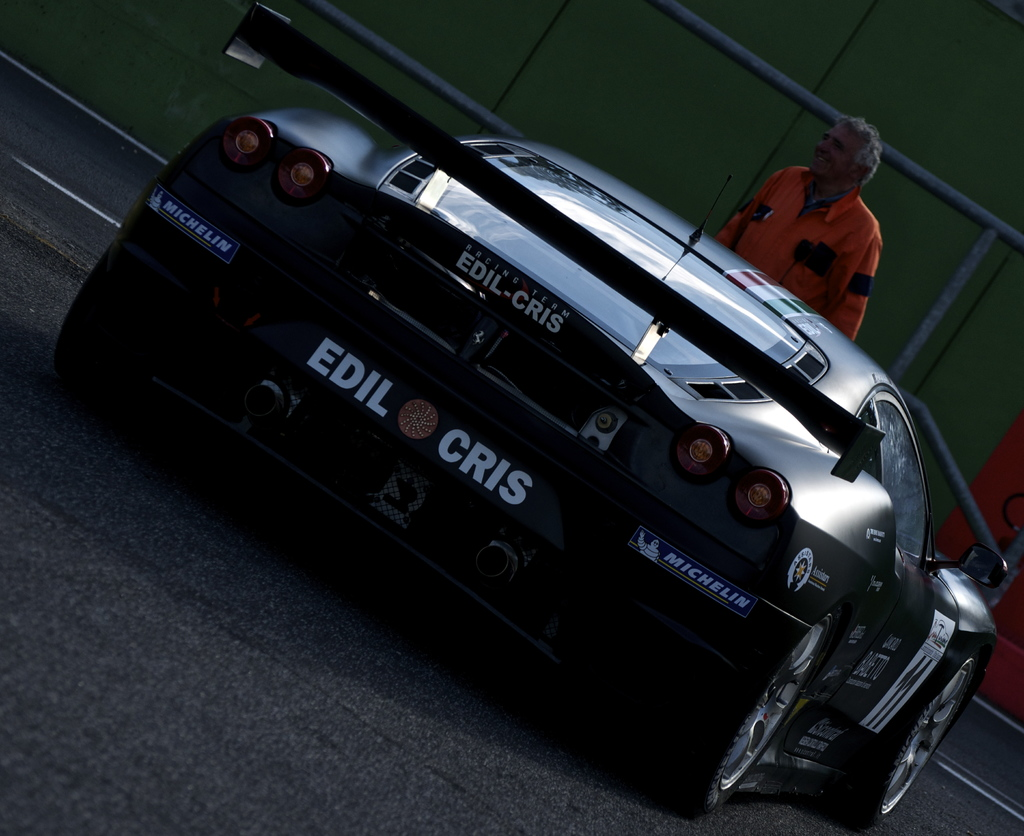Car: (103, 44, 968, 830)
